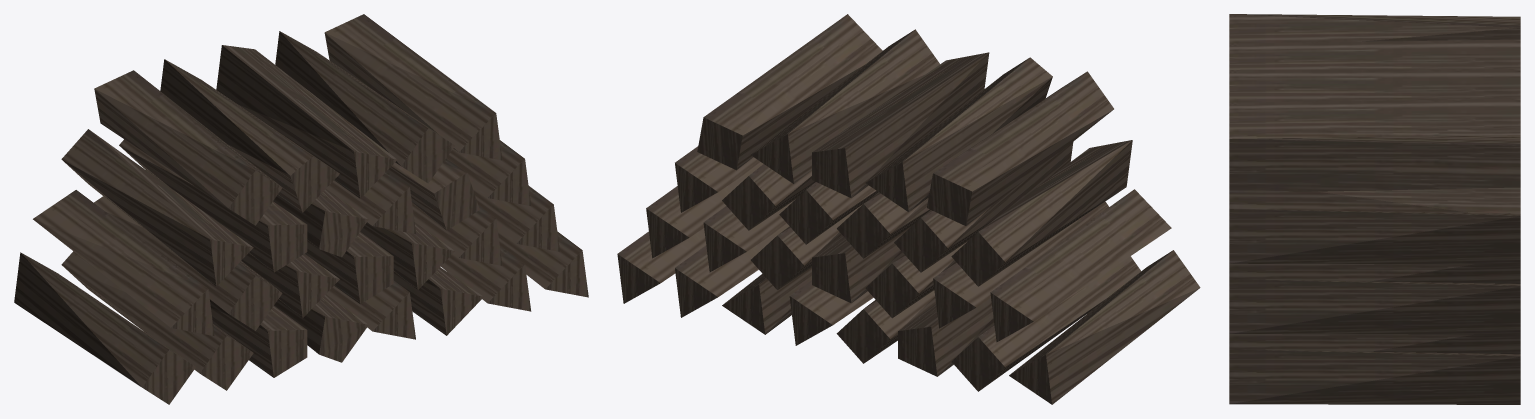
The model's file is firewood_pile_lod1.glb.
The picture shows the model from 3 angles, left to right: view 1: azimuth 30°, elevation 25°; view 2: azimuth 150°, elevation 25°; view 3: azimuth 270°, elevation 25°; orthographic projection. The views are drawn at different scales.
Parts seen in each view (by area): view 1: m; view 2: m; view 3: m.
Part boxes in pixels (bbox=[...]): m: bbox=[14, 14, 588, 404]; m: bbox=[617, 14, 1200, 404]; m: bbox=[1229, 14, 1520, 404].
Bounding box in the file's own units: 1.86 × 0.8499 × 0.9999.
Materials: 1 (1 with a texture image).
